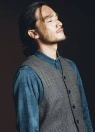male: (16, 2, 88, 73)
